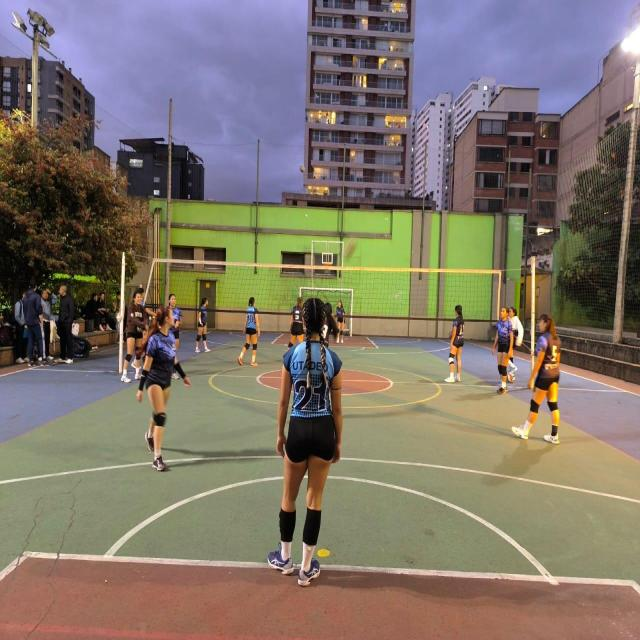volleyball: (507, 373, 515, 383)
